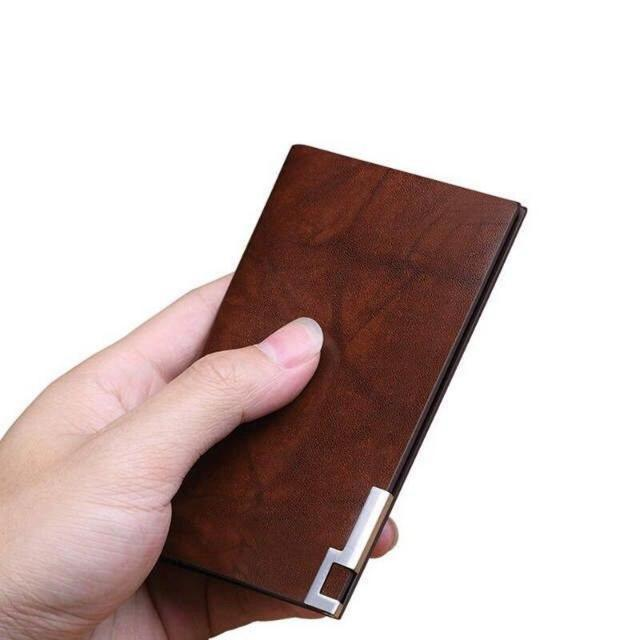wallet: (153, 130, 523, 626)
